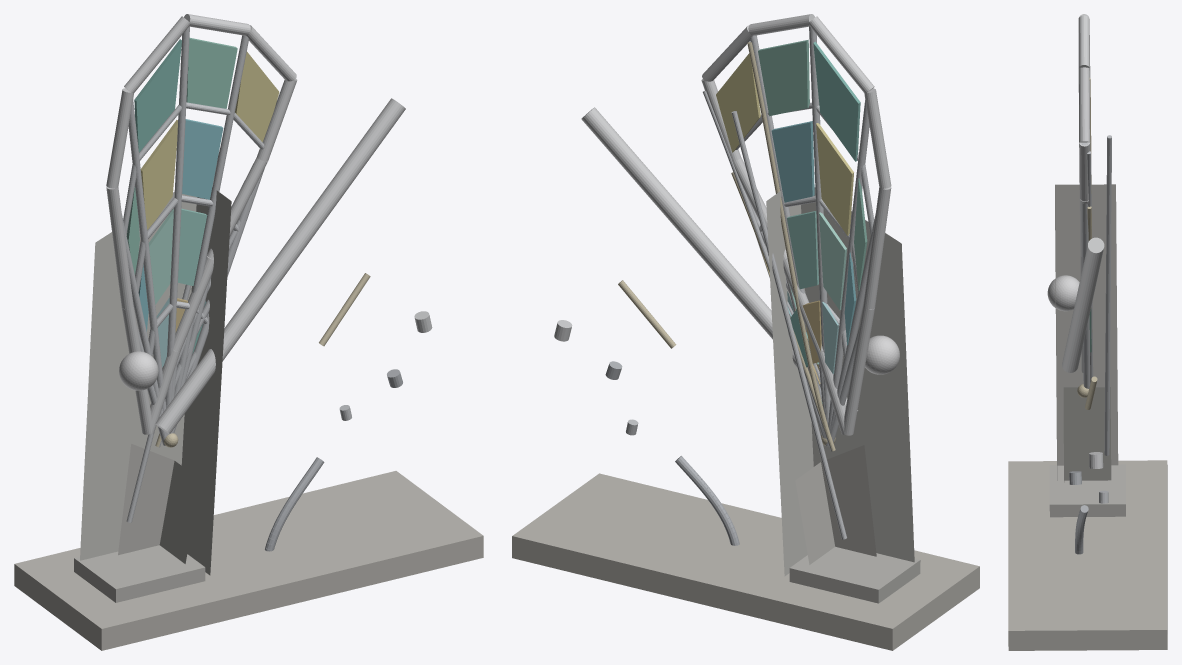
File: library_art.glb
3 renders of one model, left to right at view 1: azimuth 30°, elevation 25°; view 2: azimuth 150°, elevation 25°; view 3: azimuth 270°, elevation 25°, orthographic. The views are drawn at different scales.
Visible parts, largest first — view 1: pedestal_base, stone_monolith, main_spear, support_prism, anchor_block, pane_5_0.78, rib_6, pane_6_0.78, pane_5_0.57, rib_5, pane_6_0.57, pane_4_0.78 (+18 smaller); view 2: pedestal_base, stone_monolith, support_prism, main_spear, anchor_block, world, pane_5_0.78, pane_6_0.78, pane_5_0.57, rear_brace, pane_6_0.57, pane_4_0.78 (+17 smaller); view 3: pedestal_base, stone_monolith, support_prism, anchor_block, main_spear, rear_brace, world, orb, sail_edge_4, rib_4, sail_edge_5, sail_edge_3.
Part boxes in pixels (bbox=[...]): pedestal_base: bbox=[14, 471, 483, 650]; stone_monolith: bbox=[80, 187, 231, 575]; main_spear: bbox=[155, 98, 405, 434]; support_prism: bbox=[118, 444, 200, 563]; anchor_block: bbox=[74, 545, 205, 602]; pane_5_0.78: bbox=[186, 38, 237, 108]; rib_6: bbox=[165, 26, 189, 434]; pane_6_0.78: bbox=[134, 39, 181, 152]; pane_5_0.57: bbox=[182, 119, 223, 199]; rib_5: bbox=[170, 35, 248, 433]; pane_6_0.57: bbox=[140, 120, 177, 229]; pane_4_0.78: bbox=[235, 51, 279, 141]; pedestal_base: bbox=[512, 473, 979, 650]; stone_monolith: bbox=[766, 187, 914, 576]; support_prism: bbox=[795, 445, 876, 564]; main_spear: bbox=[581, 107, 857, 410]; anchor_block: bbox=[789, 546, 920, 603]; world: bbox=[675, 42, 835, 545]; pane_5_0.78: bbox=[758, 39, 809, 116]; pane_6_0.78: bbox=[813, 41, 860, 161]; pane_5_0.57: bbox=[771, 121, 814, 202]; rear_brace: bbox=[731, 111, 846, 539]; pane_6_0.57: bbox=[816, 123, 853, 235]; pane_4_0.78: bbox=[716, 53, 760, 152]; pedestal_base: bbox=[1008, 460, 1167, 650]; stone_monolith: bbox=[1055, 184, 1118, 480]; support_prism: bbox=[1063, 387, 1111, 482]; anchor_block: bbox=[1049, 464, 1125, 517]; main_spear: bbox=[1062, 237, 1104, 372]; rear_brace: bbox=[1104, 135, 1111, 455]; world: bbox=[1075, 78, 1093, 554]; orb: bbox=[1047, 275, 1079, 311]; sail_edge_4: bbox=[1078, 67, 1090, 142]; rib_4: bbox=[1081, 142, 1090, 388]; sail_edge_5: bbox=[1078, 15, 1089, 68]; sail_edge_3: bbox=[1079, 142, 1090, 201].
Size of the model in its own units: 2.9 by 4.17 by 1.15.
